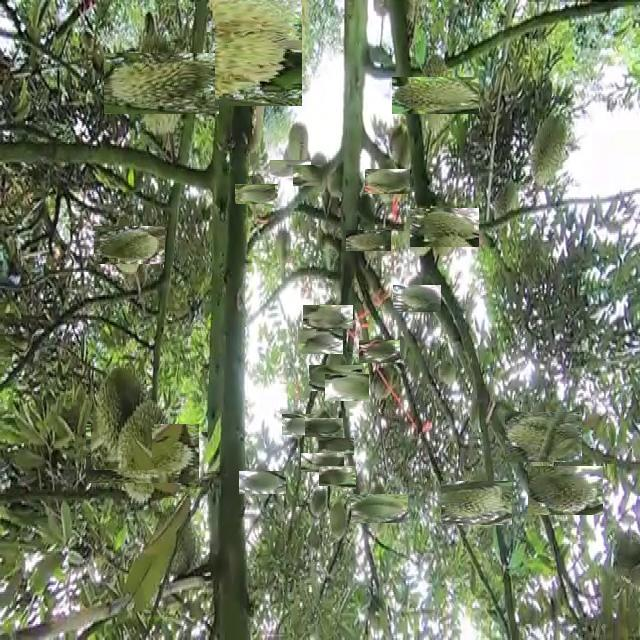durian: (207, 0, 310, 99), (117, 39, 206, 128), (99, 409, 186, 496), (91, 364, 152, 470), (512, 405, 575, 470), (404, 64, 467, 127), (534, 459, 597, 521), (529, 114, 571, 202), (447, 474, 505, 532), (417, 200, 472, 255), (101, 218, 157, 272), (401, 202, 438, 262), (355, 485, 400, 531), (332, 367, 374, 409), (388, 118, 414, 184), (315, 358, 355, 398), (398, 280, 436, 318), (301, 156, 339, 194), (310, 298, 347, 336), (370, 362, 396, 413), (370, 164, 406, 199), (303, 323, 338, 359), (322, 154, 348, 202), (245, 465, 280, 500), (352, 224, 386, 257), (364, 335, 396, 368), (329, 497, 352, 542), (307, 447, 339, 478), (287, 122, 309, 167), (241, 179, 272, 210), (322, 462, 353, 492), (276, 154, 306, 184), (274, 222, 292, 270), (285, 410, 314, 439), (308, 486, 330, 523), (310, 414, 338, 442), (324, 433, 350, 460)
